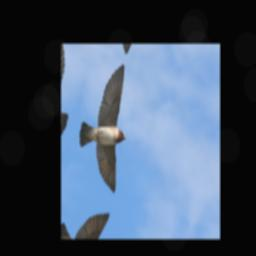Swallow: (70, 51, 143, 194)
